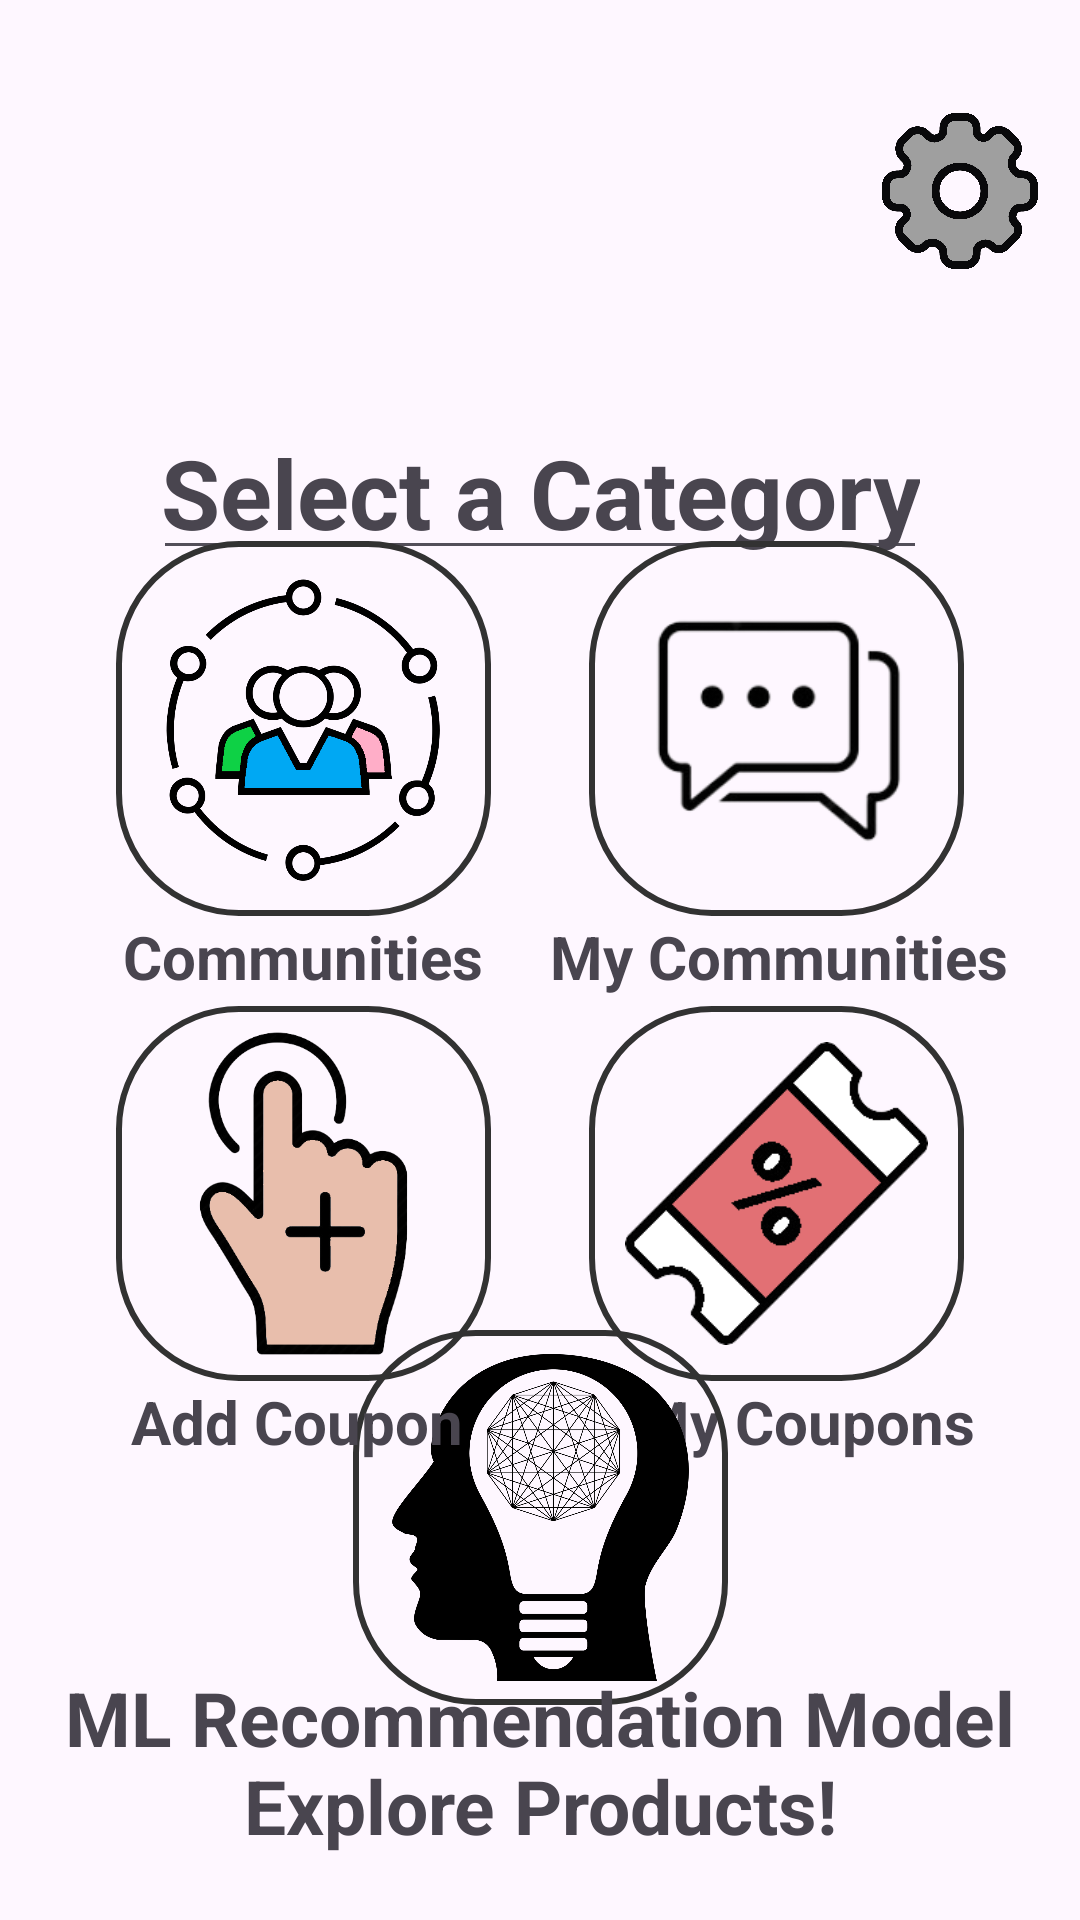

Icons on this 1080*1920 Android screen, each with the point to tap as (x=x, y=y):
chat: (x=778, y=731)
manual add: (x=303, y=1193)
settings: (x=960, y=191)
